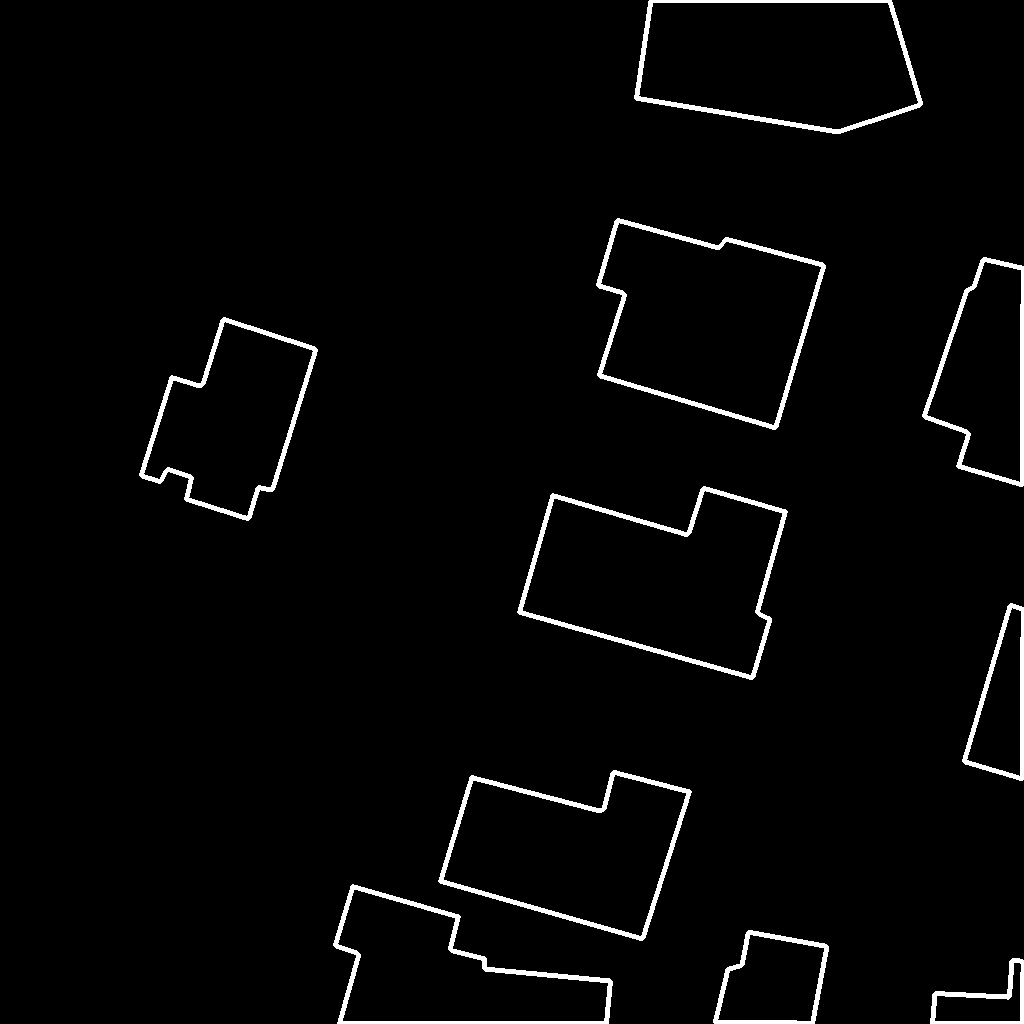building: (519, 488, 787, 679), (598, 220, 825, 429), (440, 772, 691, 940), (335, 886, 612, 1024), (636, 0, 922, 133), (141, 319, 317, 520), (924, 259, 1024, 486), (964, 605, 1024, 780), (715, 932, 828, 1024), (932, 960, 1024, 1024)
